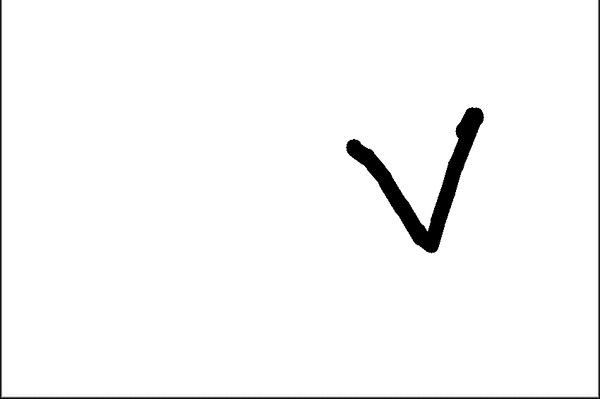V: (338, 91, 522, 255)
